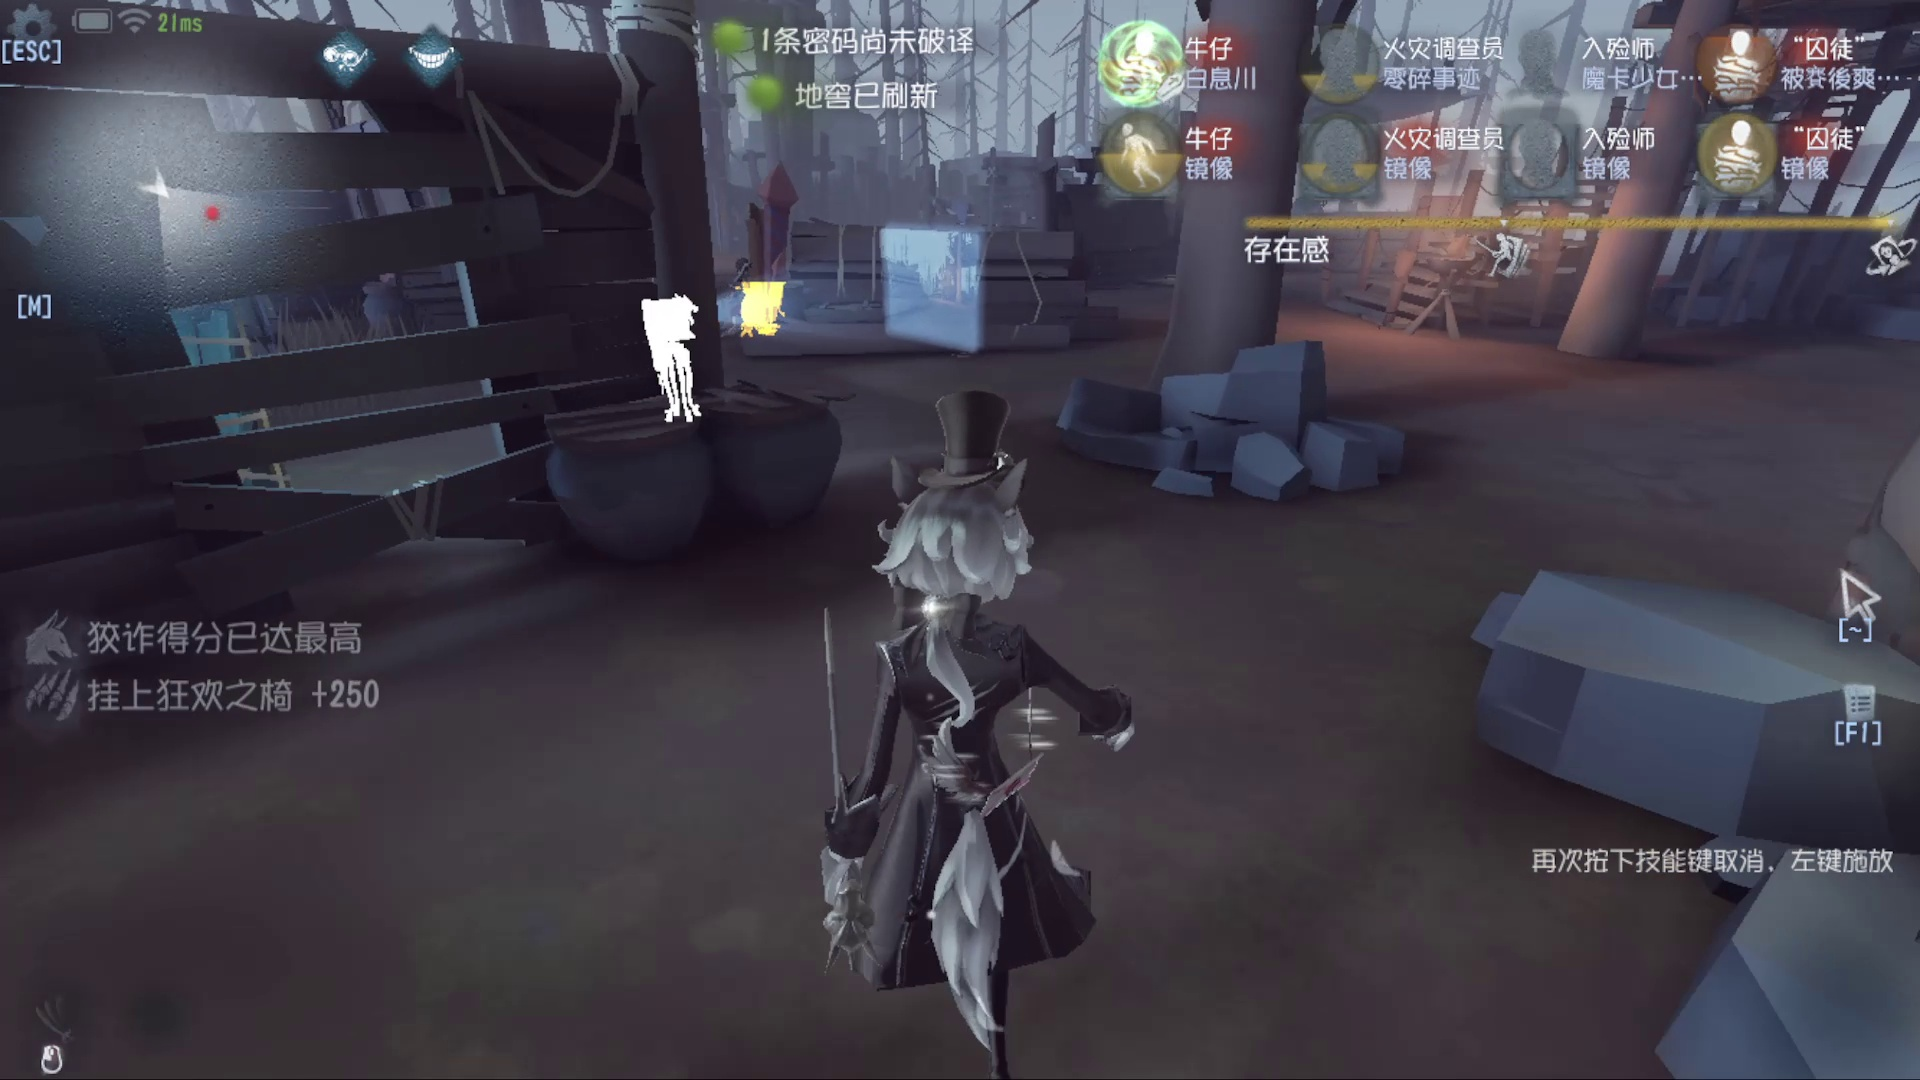狂欢之椅: (731, 152, 816, 363)
